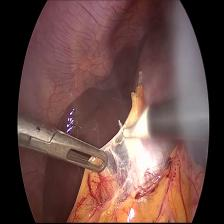Grasper: (46, 127, 109, 179)
Hook: (117, 101, 150, 149)
